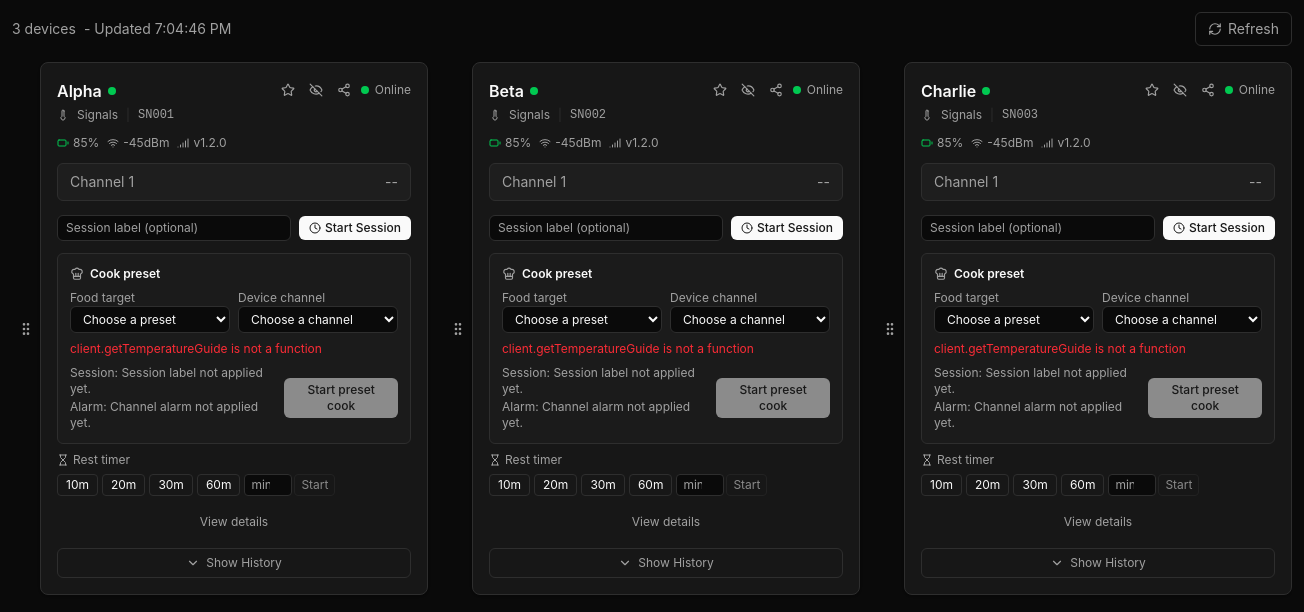
it: DeviceList visibility › hidden device count annotation is accurate after hiding a device
Check: the text "hidden" is not shown
Hide one device
Click the button named "Hide Beta" at (748, 90), box [737,79,759,101]
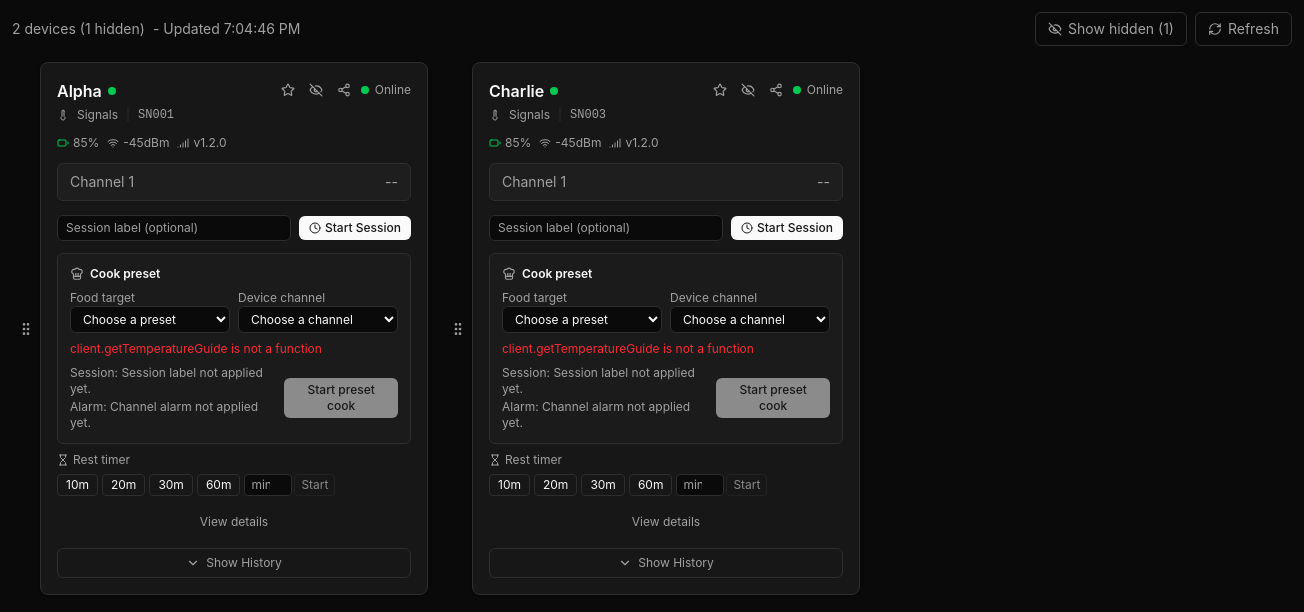
Check: the text "(1 hidden)" is shown, box [80,20,145,37]
Check: the text "2 devices" is shown, box [12,20,76,37]
